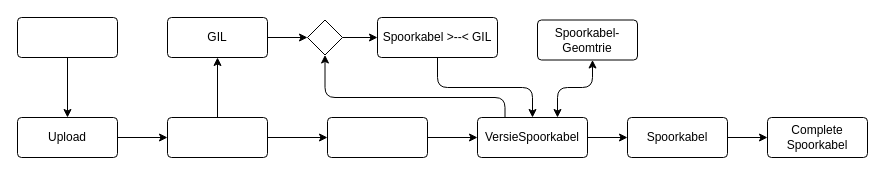
Some shapes in this 885 by 175 pixel diagram are drawn without their labels. The shapes that lost their labels are listed below. From the top down, each one's centre as x and y in pixels, then its label:
At [67,37]: "User".
At [217,137]: "Tekeningnaam".
At [377,137]: "Versie".
